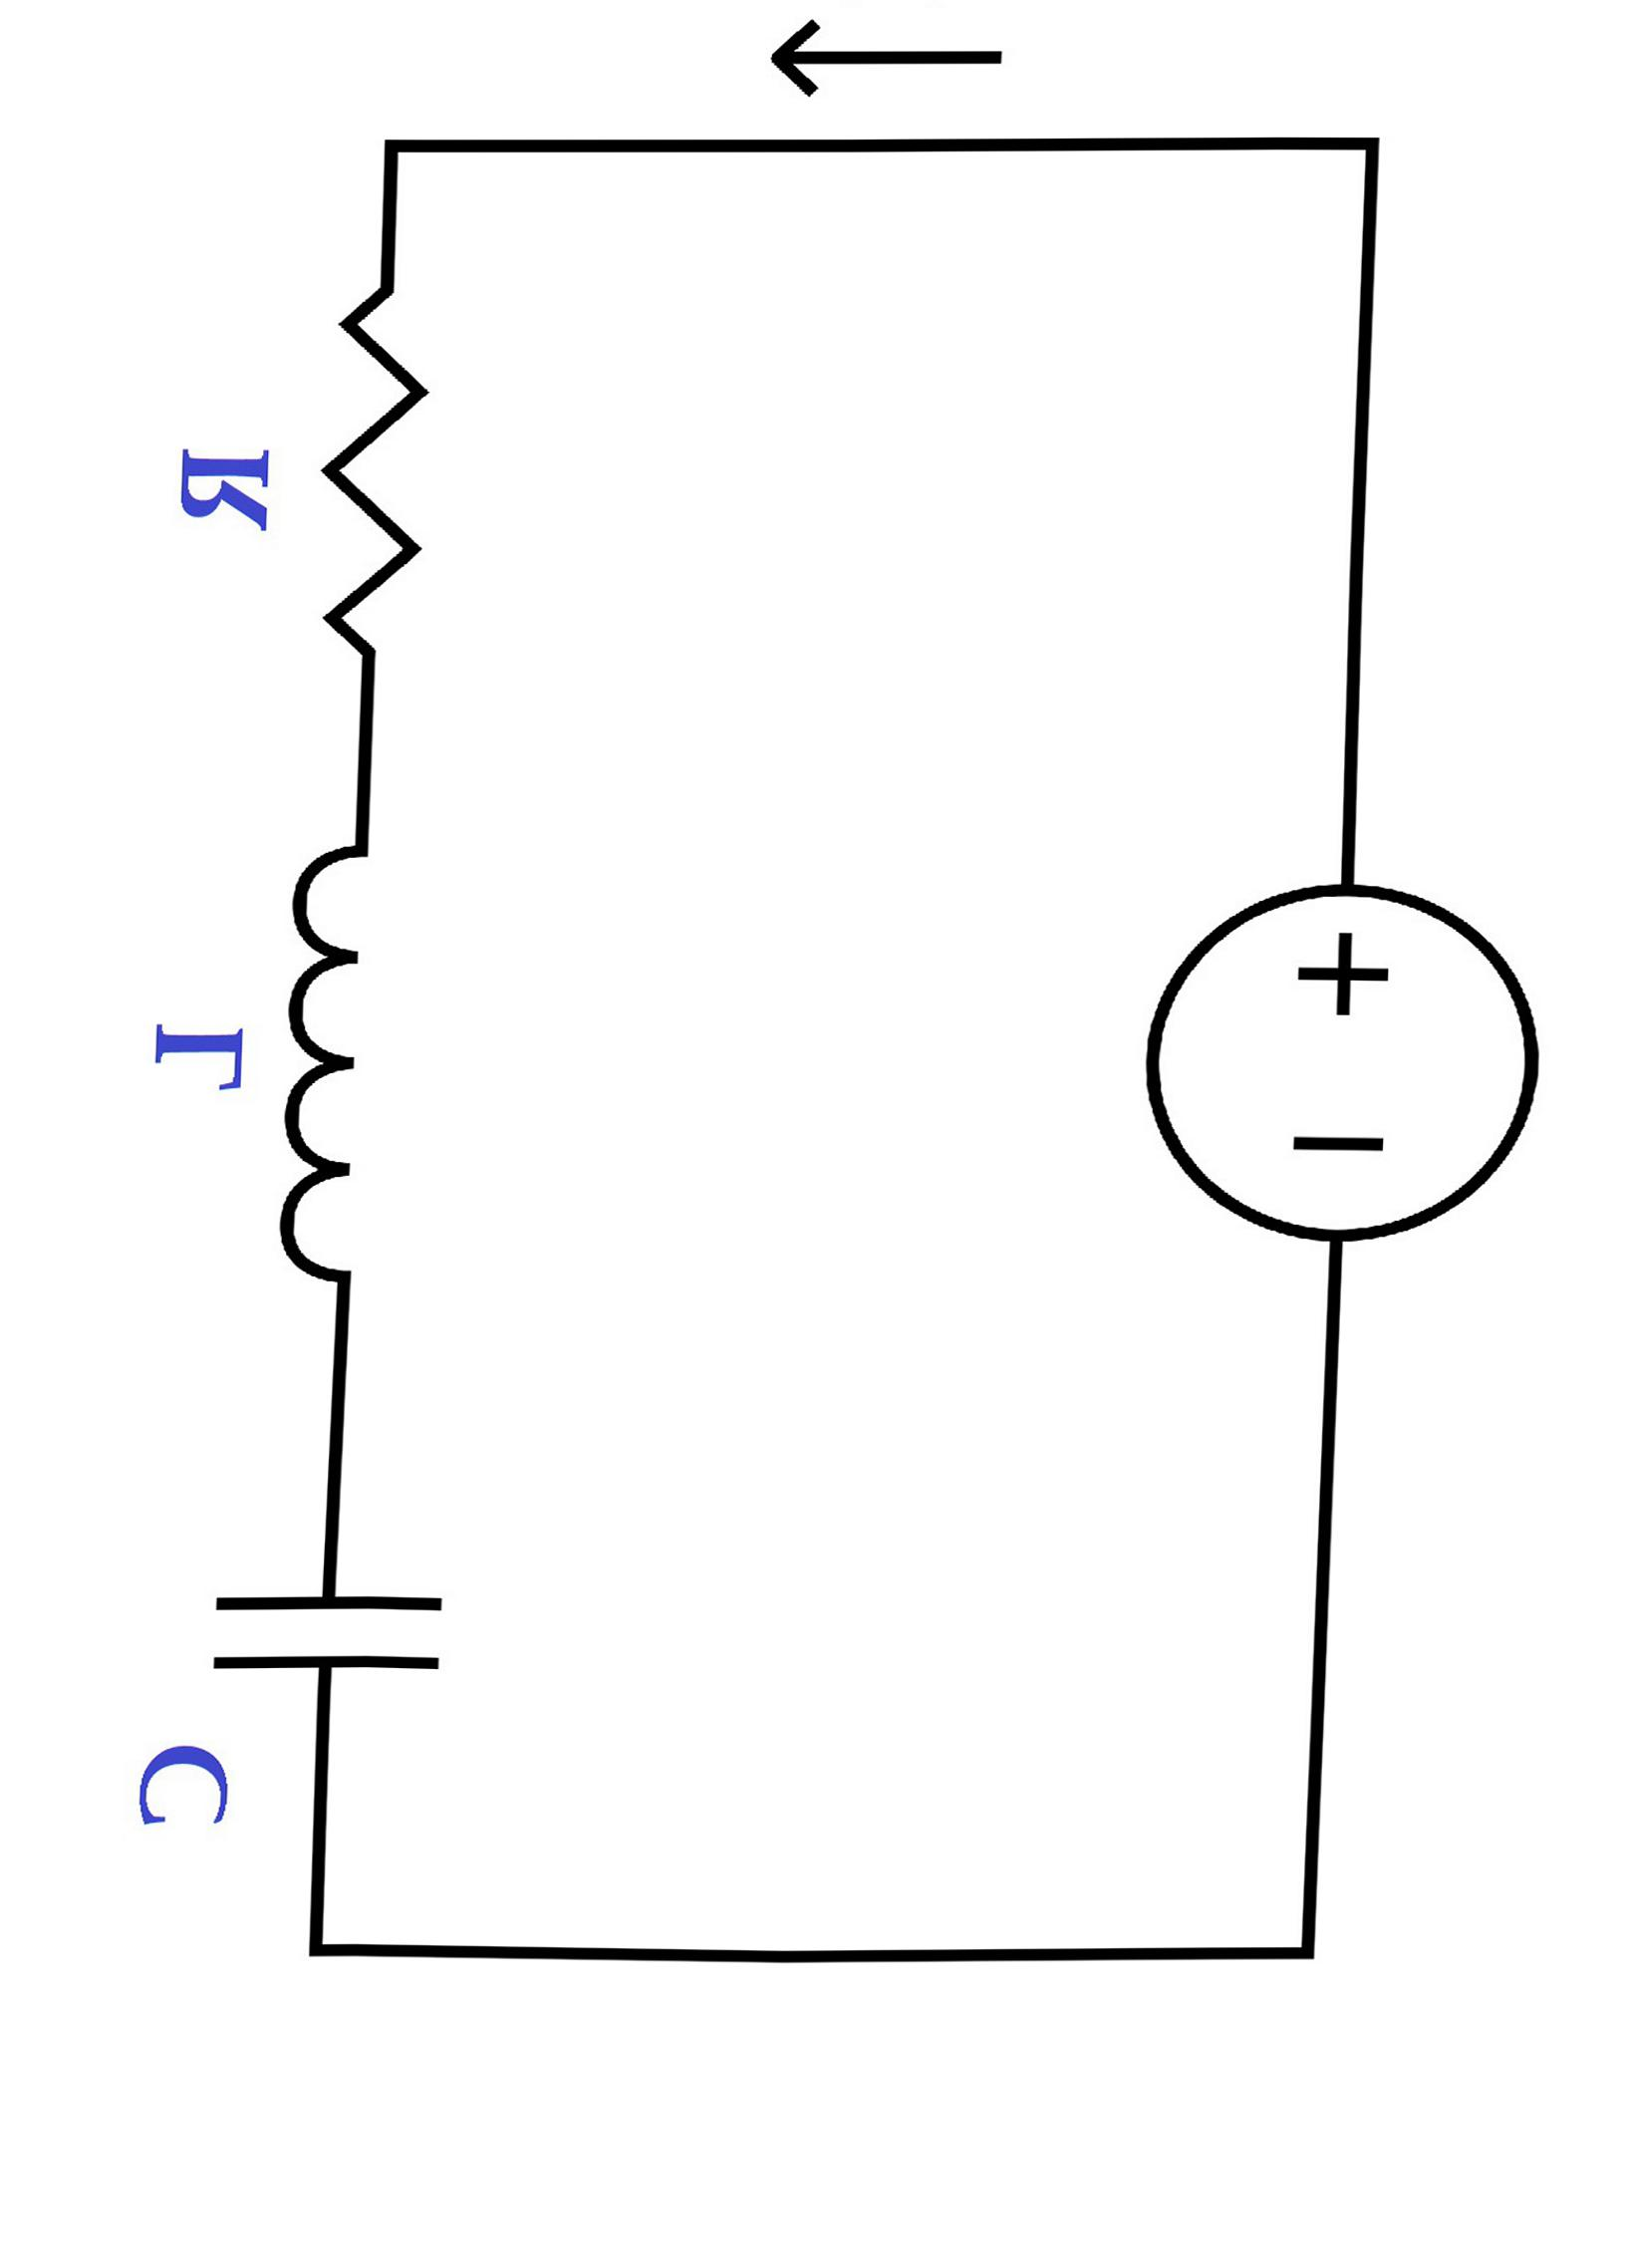Battery: (1082, 830, 1603, 1376)
